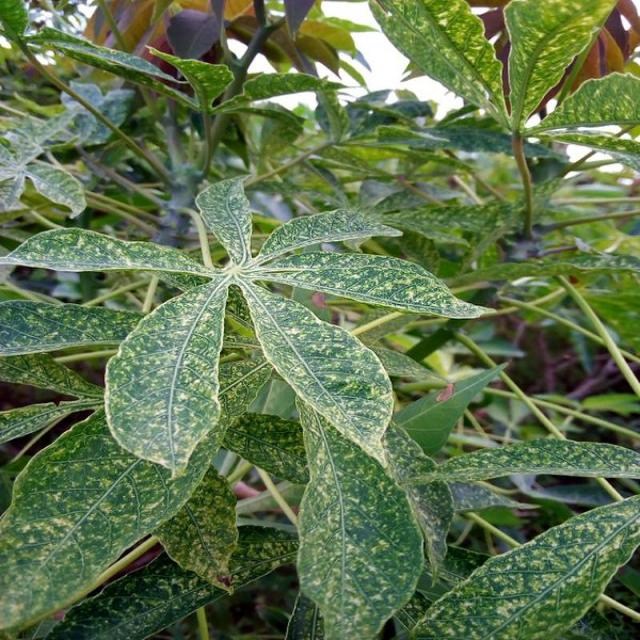cassava leaf: (0, 400, 226, 637), (409, 492, 638, 638), (294, 395, 424, 638), (103, 275, 230, 477)
